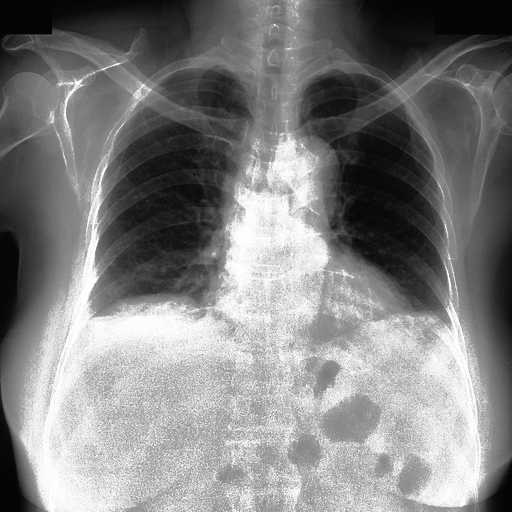Calcification: (428, 303, 457, 339)
Consolidation: (269, 134, 338, 211)
Nodule/Mass: (198, 270, 414, 355)
Pleural effusion: (428, 303, 457, 339)
